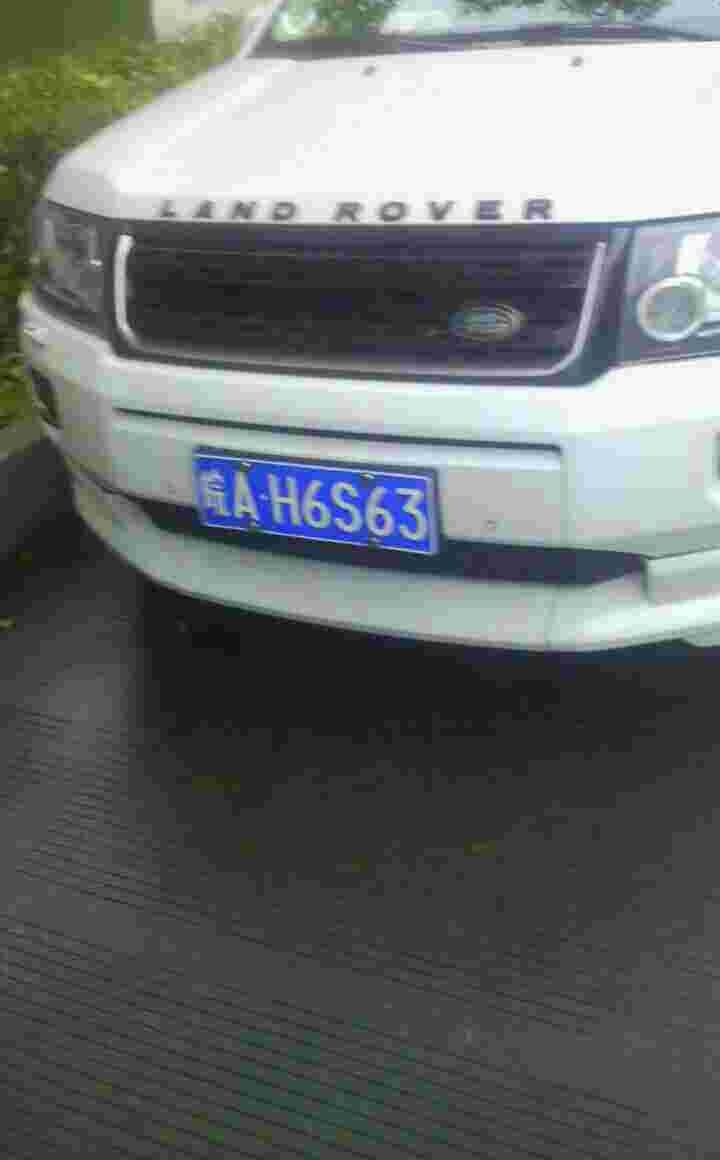license_plate: (192, 458, 448, 559)
